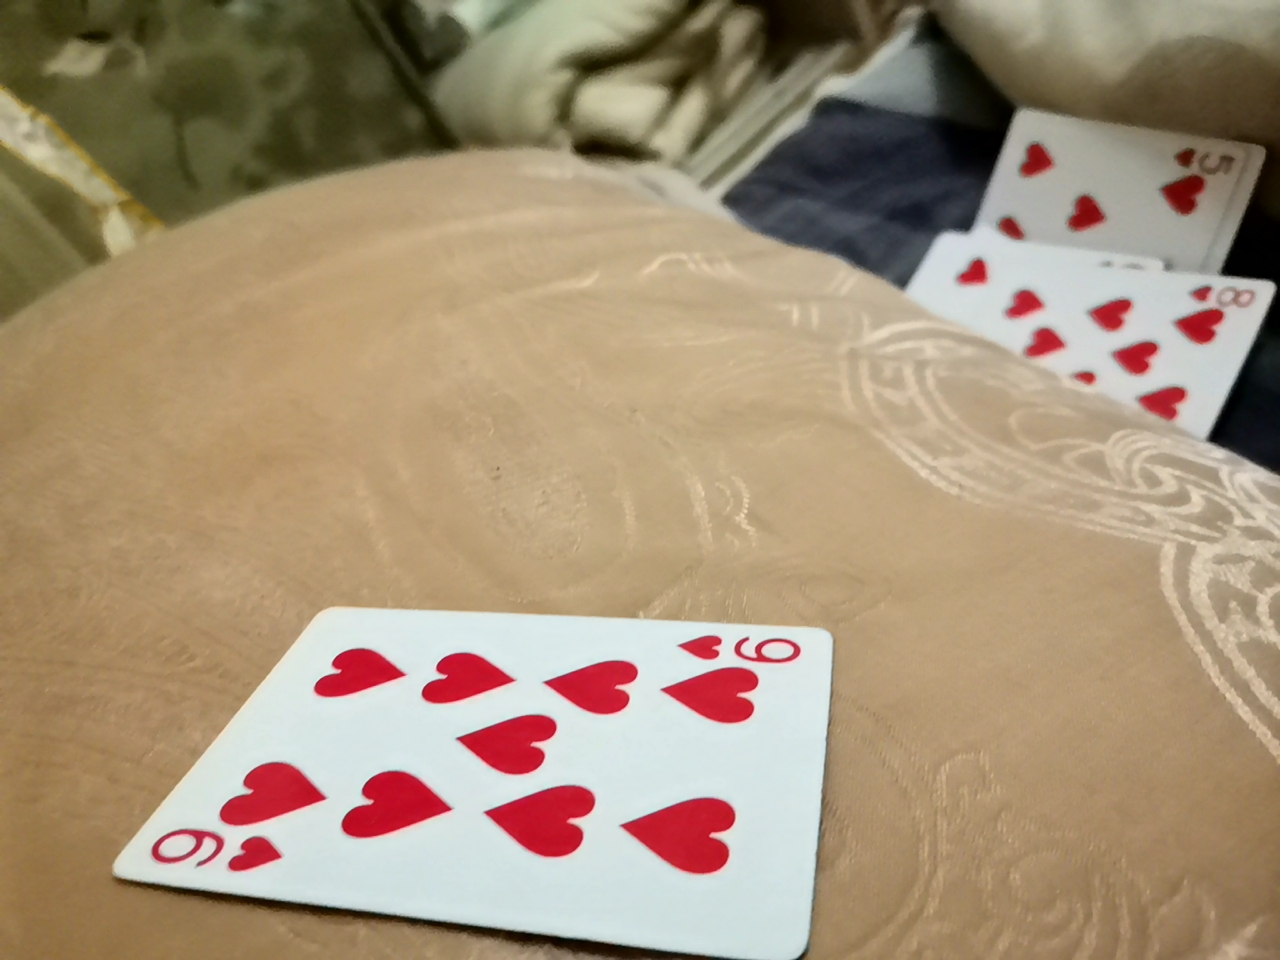hx 9: (148, 496, 861, 845)
